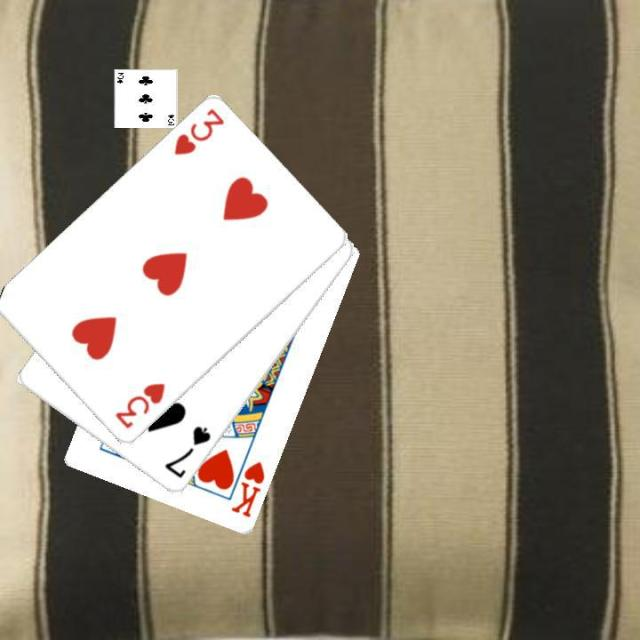3H: (170, 105, 227, 158), (110, 379, 167, 431)
7S: (161, 422, 213, 481)
KH: (228, 458, 268, 520)
